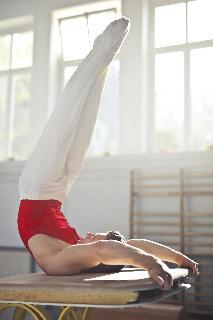person - v3 P: (18, 18, 198, 290)
